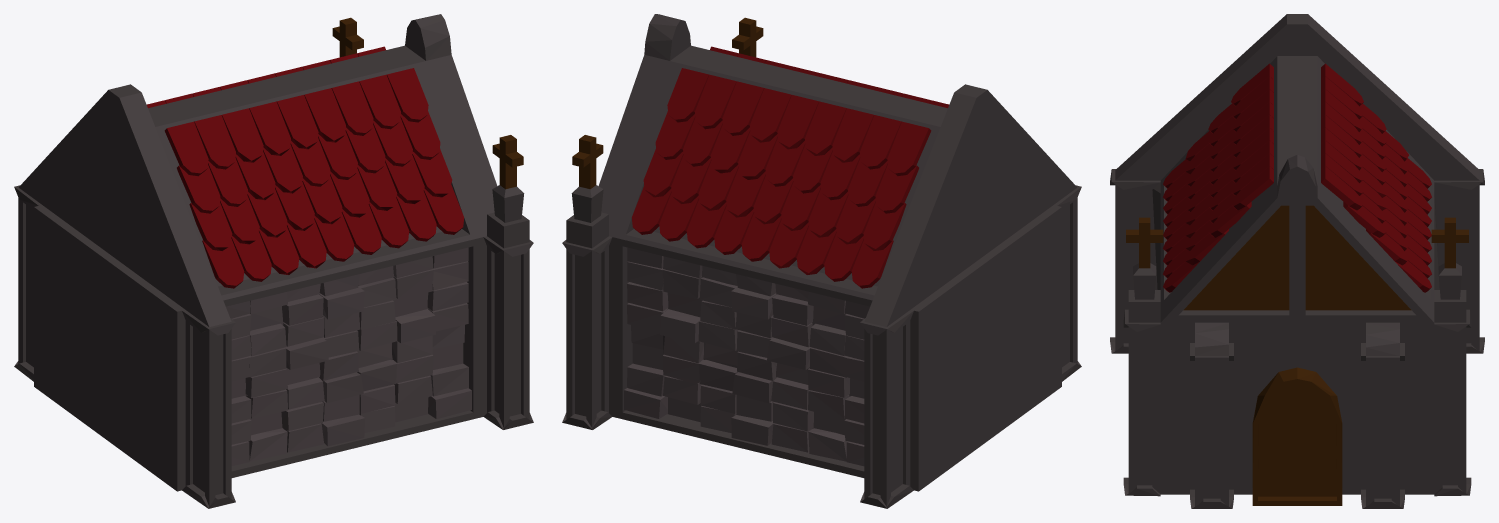
File: mausoleum.fbx
3 views of the same model, side by side, from view 1: azimuth 30°, elevation 25°; view 2: azimuth 150°, elevation 25°; view 3: azimuth 270°, elevation 25° (orthographic). The views are drawn at different scales.
Parts seen in each view (by area): view 1: roof; view 2: roof; view 3: roof.
Boxes of the visible parts, bbox=[...] form: roof: bbox=[14, 14, 533, 508]; roof: bbox=[562, 14, 1081, 508]; roof: bbox=[1110, 14, 1484, 508].
Bounding box in the file's own units: 856 × 764 × 791.
